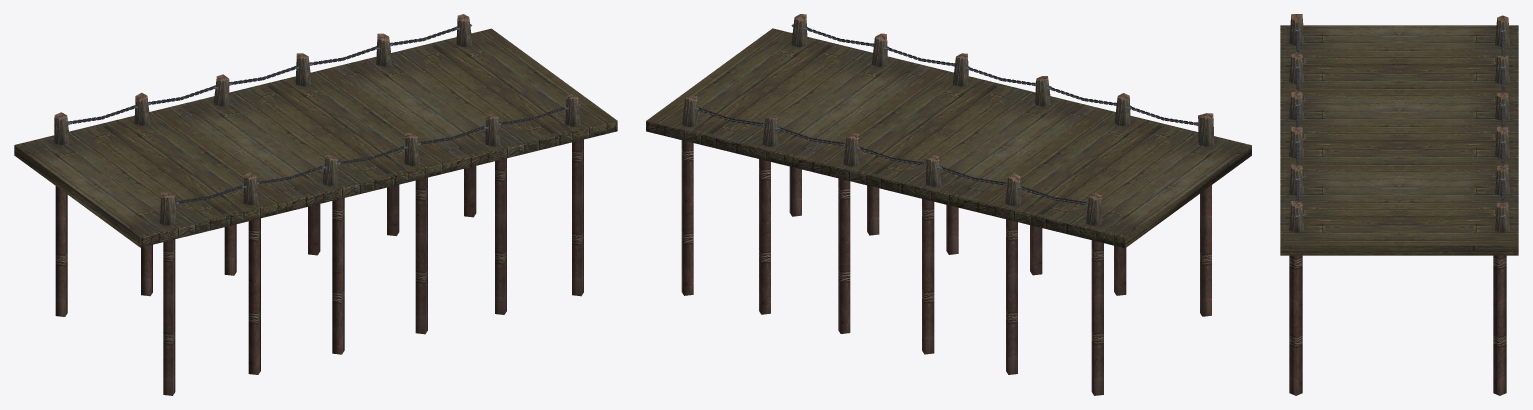
Rendered from hean_shuizhai_41.FBX.
3 renders of one model, left to right at view 1: azimuth 30°, elevation 25°; view 2: azimuth 150°, elevation 25°; view 3: azimuth 270°, elevation 25°, orthographic. The views are drawn at different scales.
Parts seen in each view (by area): view 1: hean_shuizhai_41_01, hean_shuizhai_41_03, hean_shuizhai_41_02; view 2: hean_shuizhai_41_01, hean_shuizhai_41_02, hean_shuizhai_41_03; view 3: hean_shuizhai_41_01, hean_shuizhai_41_02, hean_shuizhai_41_03.
Part boxes in pixels (<box>): hean_shuizhai_41_01: <box>14,28,617,395</box>; hean_shuizhai_41_03: <box>54,14,472,145</box>; hean_shuizhai_41_02: <box>160,94,581,225</box>; hean_shuizhai_41_01: <box>646,28,1251,395</box>; hean_shuizhai_41_02: <box>791,14,1214,146</box>; hean_shuizhai_41_03: <box>682,96,1101,225</box>; hean_shuizhai_41_01: <box>1280,25,1518,395</box>; hean_shuizhai_41_02: <box>1289,14,1304,232</box>; hean_shuizhai_41_03: <box>1495,15,1510,232</box>.
Size of what is drawn, in the model's own units: 2652 by 1058 by 1214.
